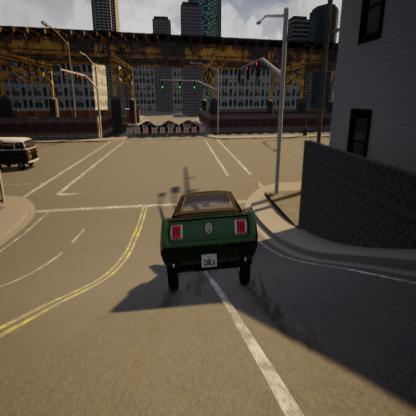Cars: (154, 181, 264, 303), (0, 130, 42, 178), (158, 116, 182, 136), (138, 114, 160, 134), (180, 118, 203, 136)
